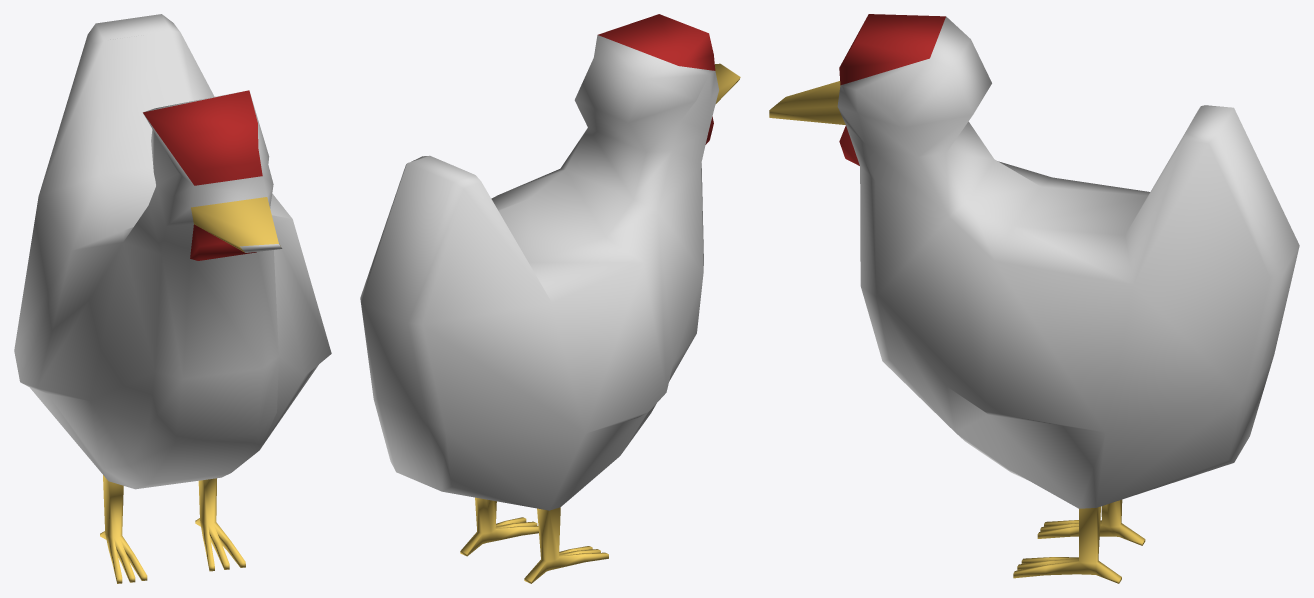
The model's file is chicken.fbx.
The picture shows the model from 3 angles, left to right: view 1: azimuth 30°, elevation 25°; view 2: azimuth 150°, elevation 25°; view 3: azimuth 270°, elevation 25°; orthographic projection. The views are drawn at different scales.
Parts seen in each view (by area): view 1: Chicken; view 2: Chicken; view 3: Chicken.
Boxes of the visible parts, box(x1,y1,x2,y2) form: Chicken: box(14, 14, 331, 583); Chicken: box(360, 14, 740, 583); Chicken: box(769, 14, 1299, 583).
Bounding box in the file's own units: 80.83 × 147 × 140.
